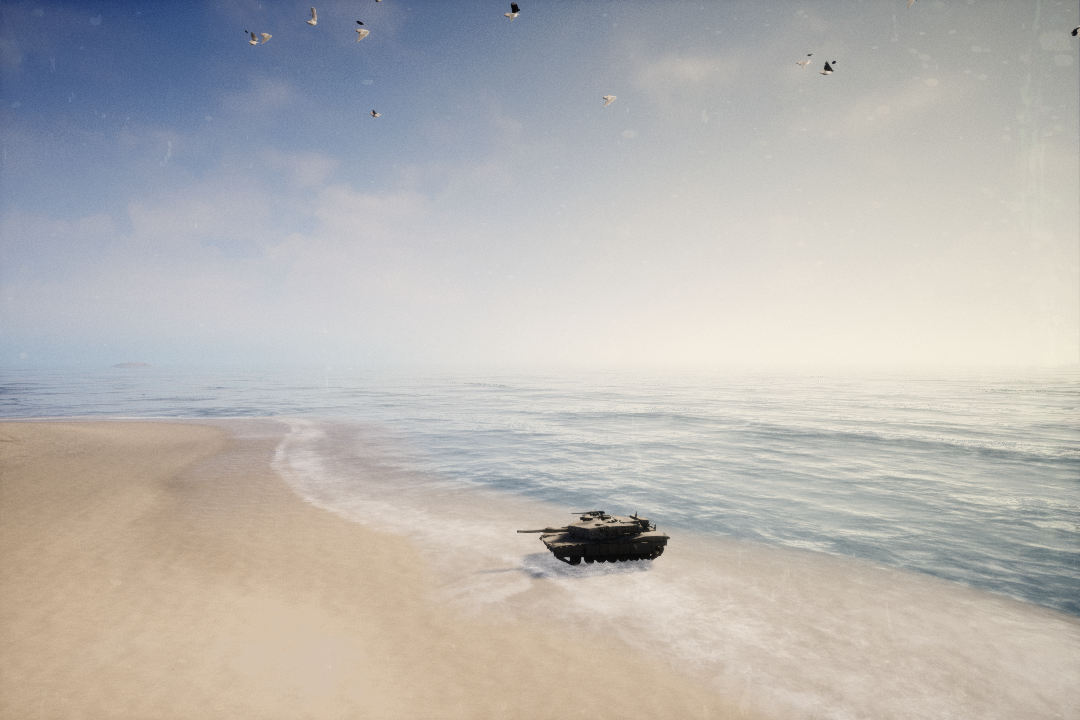tank: (513, 514, 677, 566)
